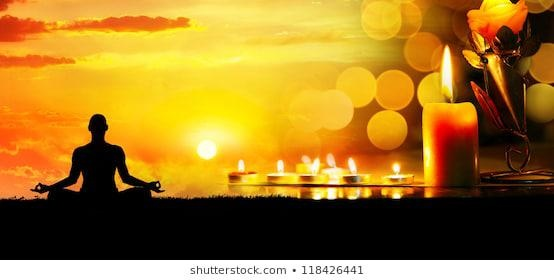fire: (438, 44, 456, 97)
